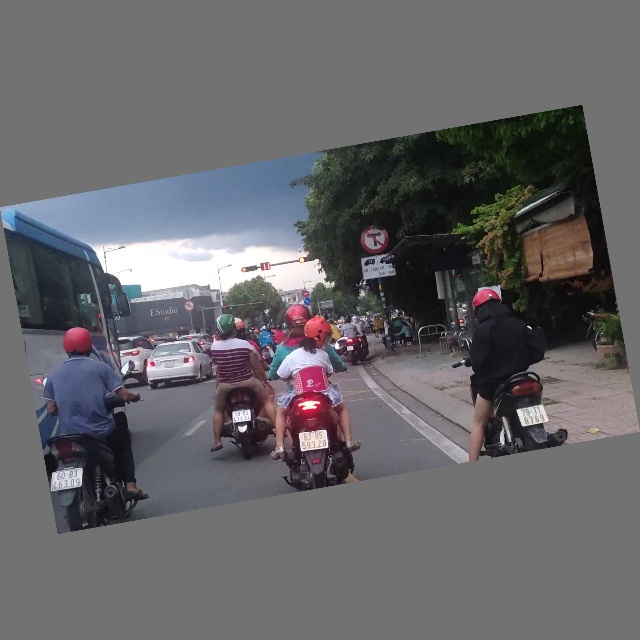P.102: (302, 291, 310, 299)
P.124a*: (182, 300, 196, 313)
P.137: (358, 223, 391, 257)
R.302a: (303, 298, 311, 306)
